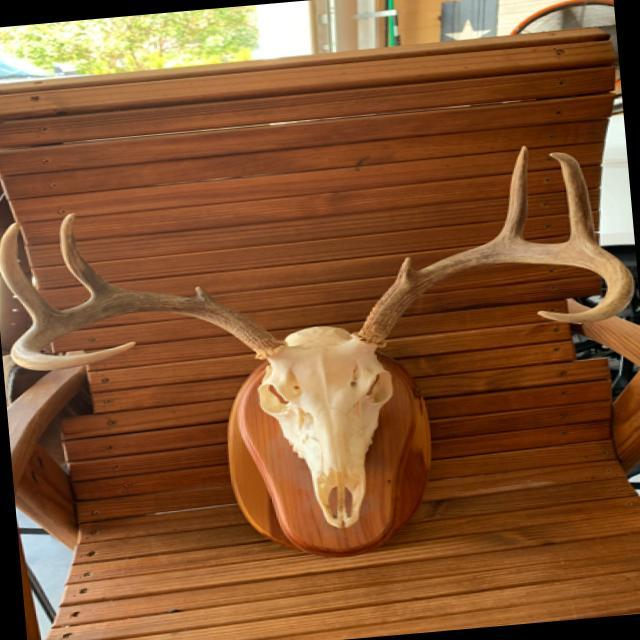L-F: (352, 238, 634, 347)
L-G1: (395, 256, 416, 281)
L-G2: (494, 145, 528, 239)
L-G3: (547, 151, 597, 243)
R-F: (9, 288, 288, 370)
R-G1: (191, 286, 215, 301)
R-G2: (59, 212, 117, 297)
R-G3: (0, 221, 60, 323)
